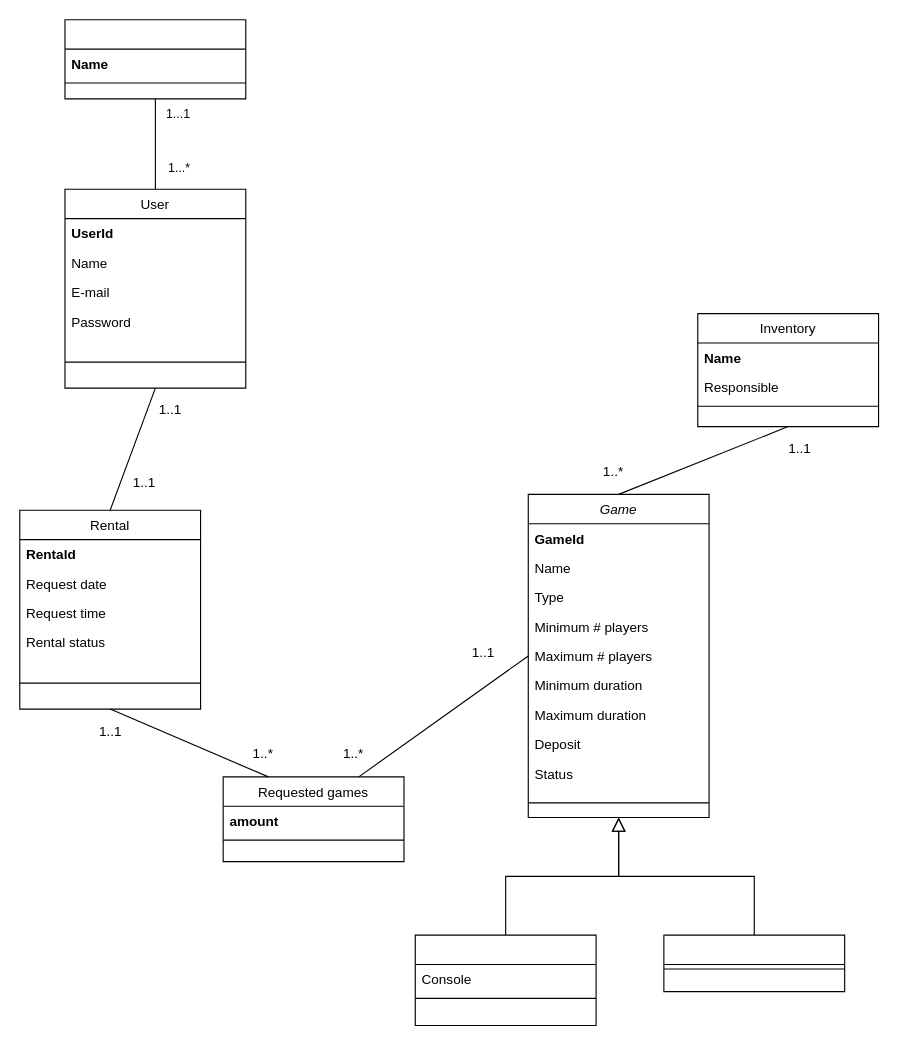
The diagram is 898 pixels wide and 1045 high, and some of its shapes have lost their labels. The shapes that lost their labels are listed below. From the top down, each one's box as (x1, y1, x2, y2) in pixels, then its label:
(64, 19, 246, 99): Role
(414, 934, 596, 1025): Electronic game
(663, 934, 845, 992): Boardgame
